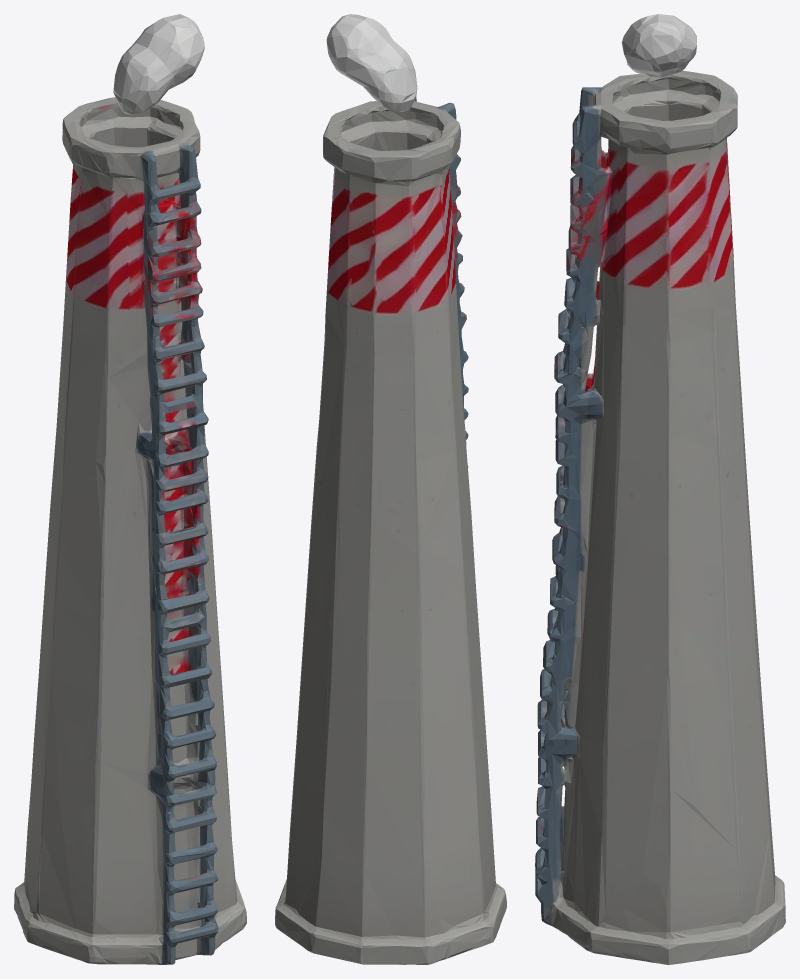
The model's file is dimnik.glb.
3 renders of one model, left to right at view 1: azimuth 30°, elevation 25°; view 2: azimuth 150°, elevation 25°; view 3: azimuth 270°, elevation 25°, orthographic. The views are drawn at different scales.
Visible parts, largest first — view 1: material; view 2: material; view 3: material.
Boxes of the visible parts, x1,y1,x2,y2 form: material: [14, 14, 246, 964]; material: [275, 14, 506, 964]; material: [535, 14, 785, 964].
Size of the model in its own units: 0.2813 by 1.17 by 0.2887.
1 material, 1 textured.
